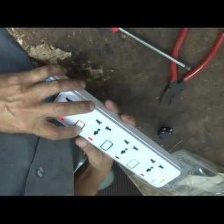three_eye_plug: (28, 65, 184, 189)
